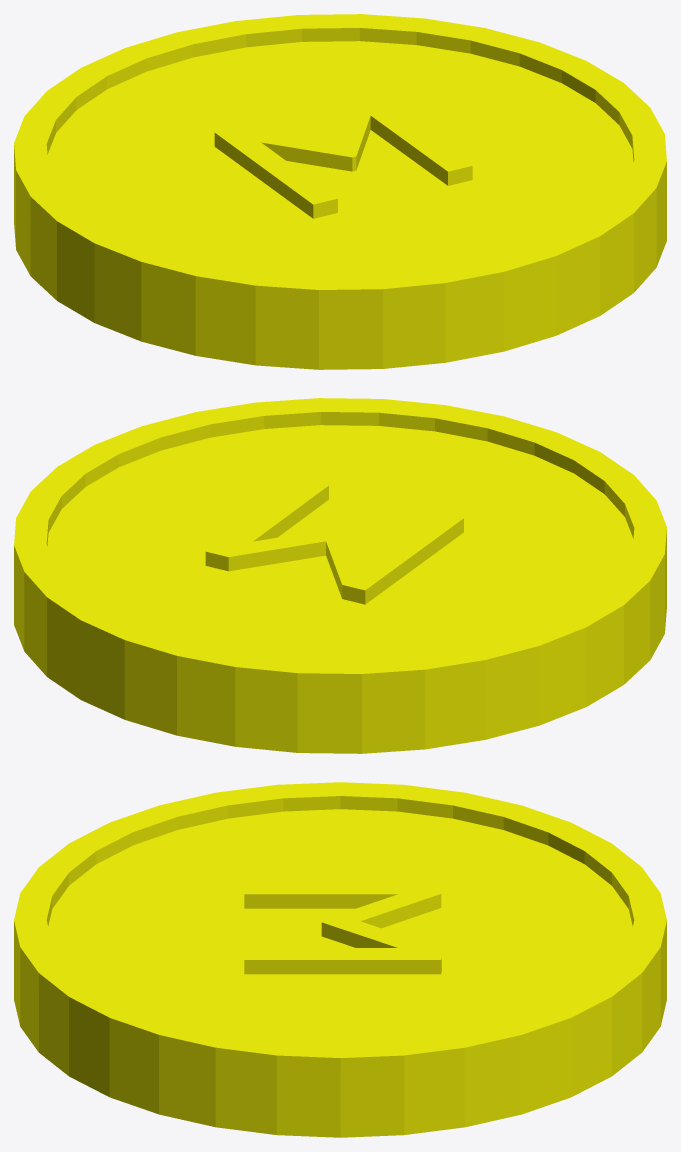
File: Money.obj
3 views of the same model, one above another, from view 1: azimuth 30°, elevation 25°; view 2: azimuth 150°, elevation 25°; view 3: azimuth 270°, elevation 25° (orthographic).
Visible parts, largest first — view 1: Cylinder; view 2: Cylinder; view 3: Cylinder.
Boxes of the visible parts, box(x1,y1,x2,y2) form: Cylinder: box(14, 14, 666, 369); Cylinder: box(14, 398, 666, 753); Cylinder: box(14, 782, 666, 1137).
Bounding box in the file's own units: 2.22 × 0.3028 × 2.22.
